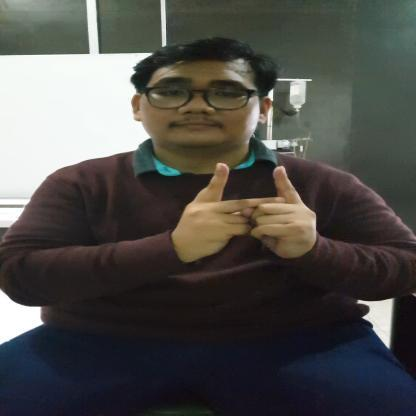H: (175, 162, 327, 261)
